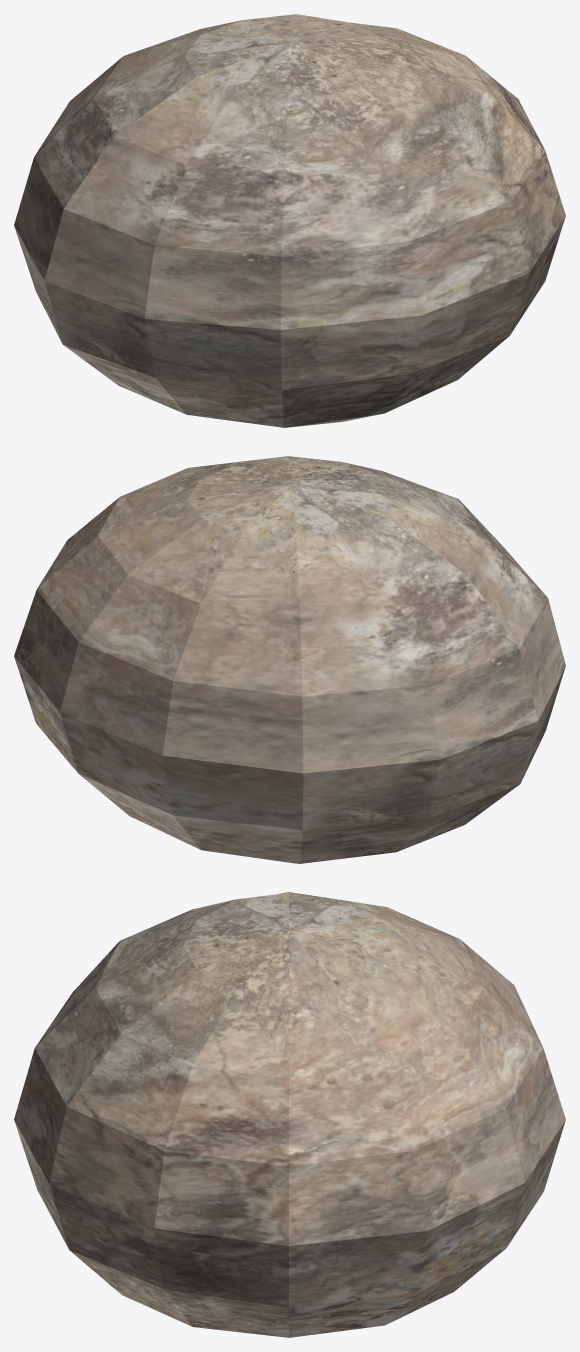
File: geode.glb
The picture shows the model from 3 angles, top to bottom: view 1: azimuth 30°, elevation 25°; view 2: azimuth 150°, elevation 25°; view 3: azimuth 270°, elevation 25°; orthographic projection. The views are drawn at different scales.
Visible parts, largest first — view 1: geode; view 2: geode; view 3: geode.
Part boxes in pixels (<box>): geode: <box>14,14,565,427</box>; geode: <box>14,456,565,863</box>; geode: <box>14,892,565,1337</box>.
Bounding box in the file's own units: 1.2 × 0.8202 × 1.1.
2 materials, 1 textured.
